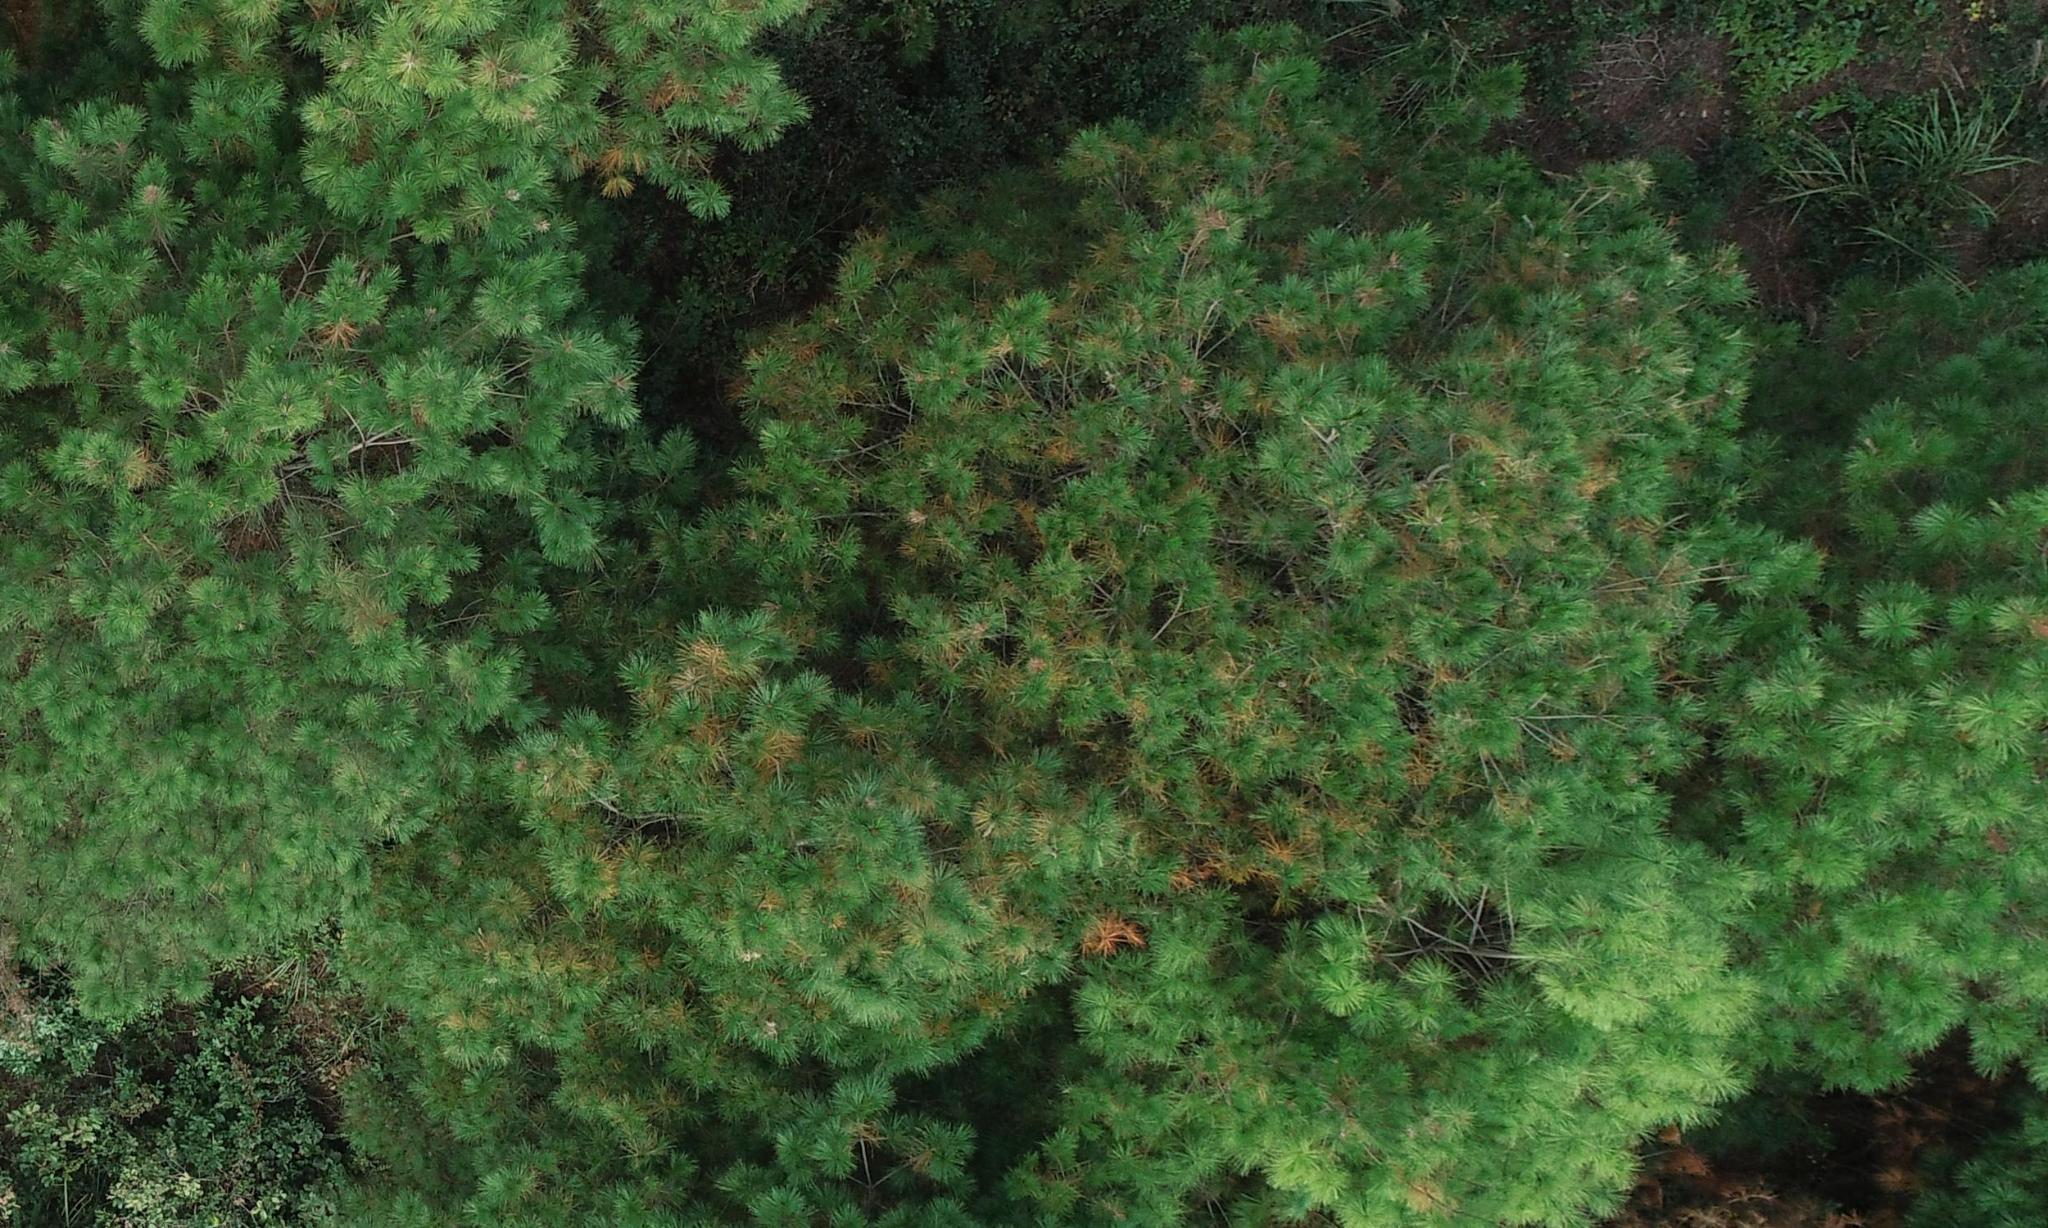light: (740, 64, 1807, 922)
